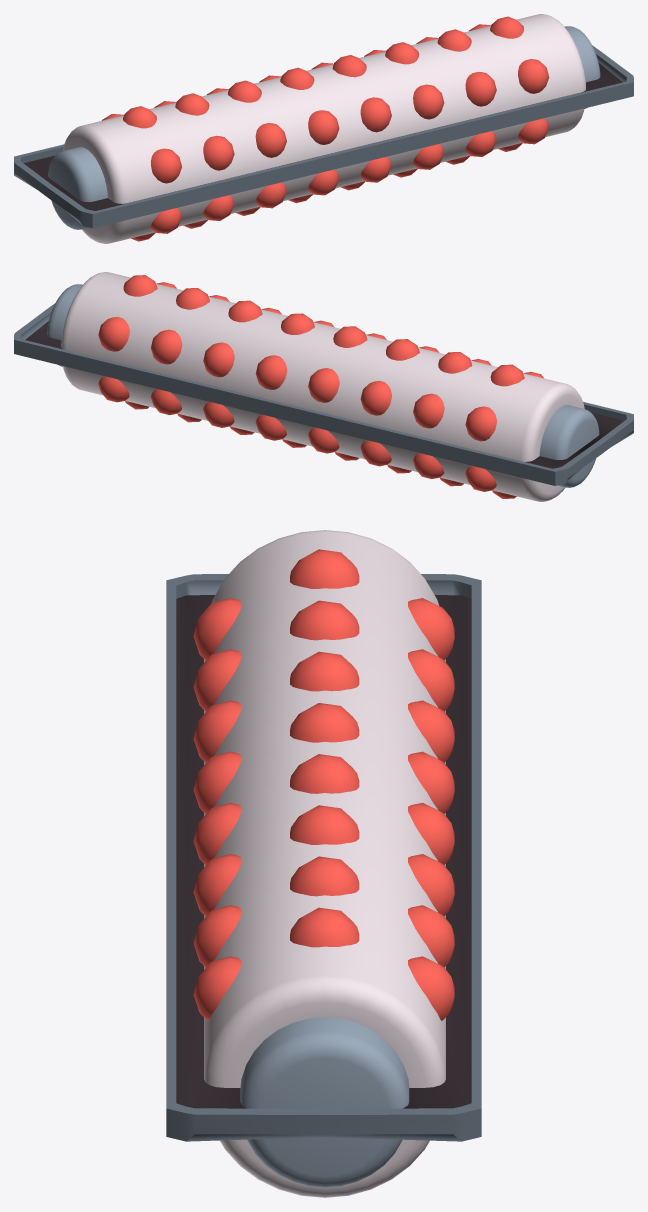
Rendered from HorizontalGrinderLong.fbx.
3 renders of one model, top to bottom at view 1: azimuth 30°, elevation 25°; view 2: azimuth 150°, elevation 25°; view 3: azimuth 270°, elevation 25°, orthographic. The views are drawn at different scales.
Visible parts, largest first — view 1: HorizontalGrinderLong, HorizontalGrinderLongBase; view 2: HorizontalGrinderLong, HorizontalGrinderLongBase; view 3: HorizontalGrinderLong, HorizontalGrinderLongBase.
Part boxes in pixels (box(x1,y1,x2,y2)): HorizontalGrinderLong: box(48, 14, 600, 243); HorizontalGrinderLongBase: box(14, 45, 633, 228); HorizontalGrinderLong: box(47, 272, 599, 501); HorizontalGrinderLongBase: box(14, 303, 633, 485); HorizontalGrinderLong: box(193, 530, 454, 1197); HorizontalGrinderLongBase: box(166, 574, 481, 1141).
Size of the model in its own units: 592 by 135 by 146.
